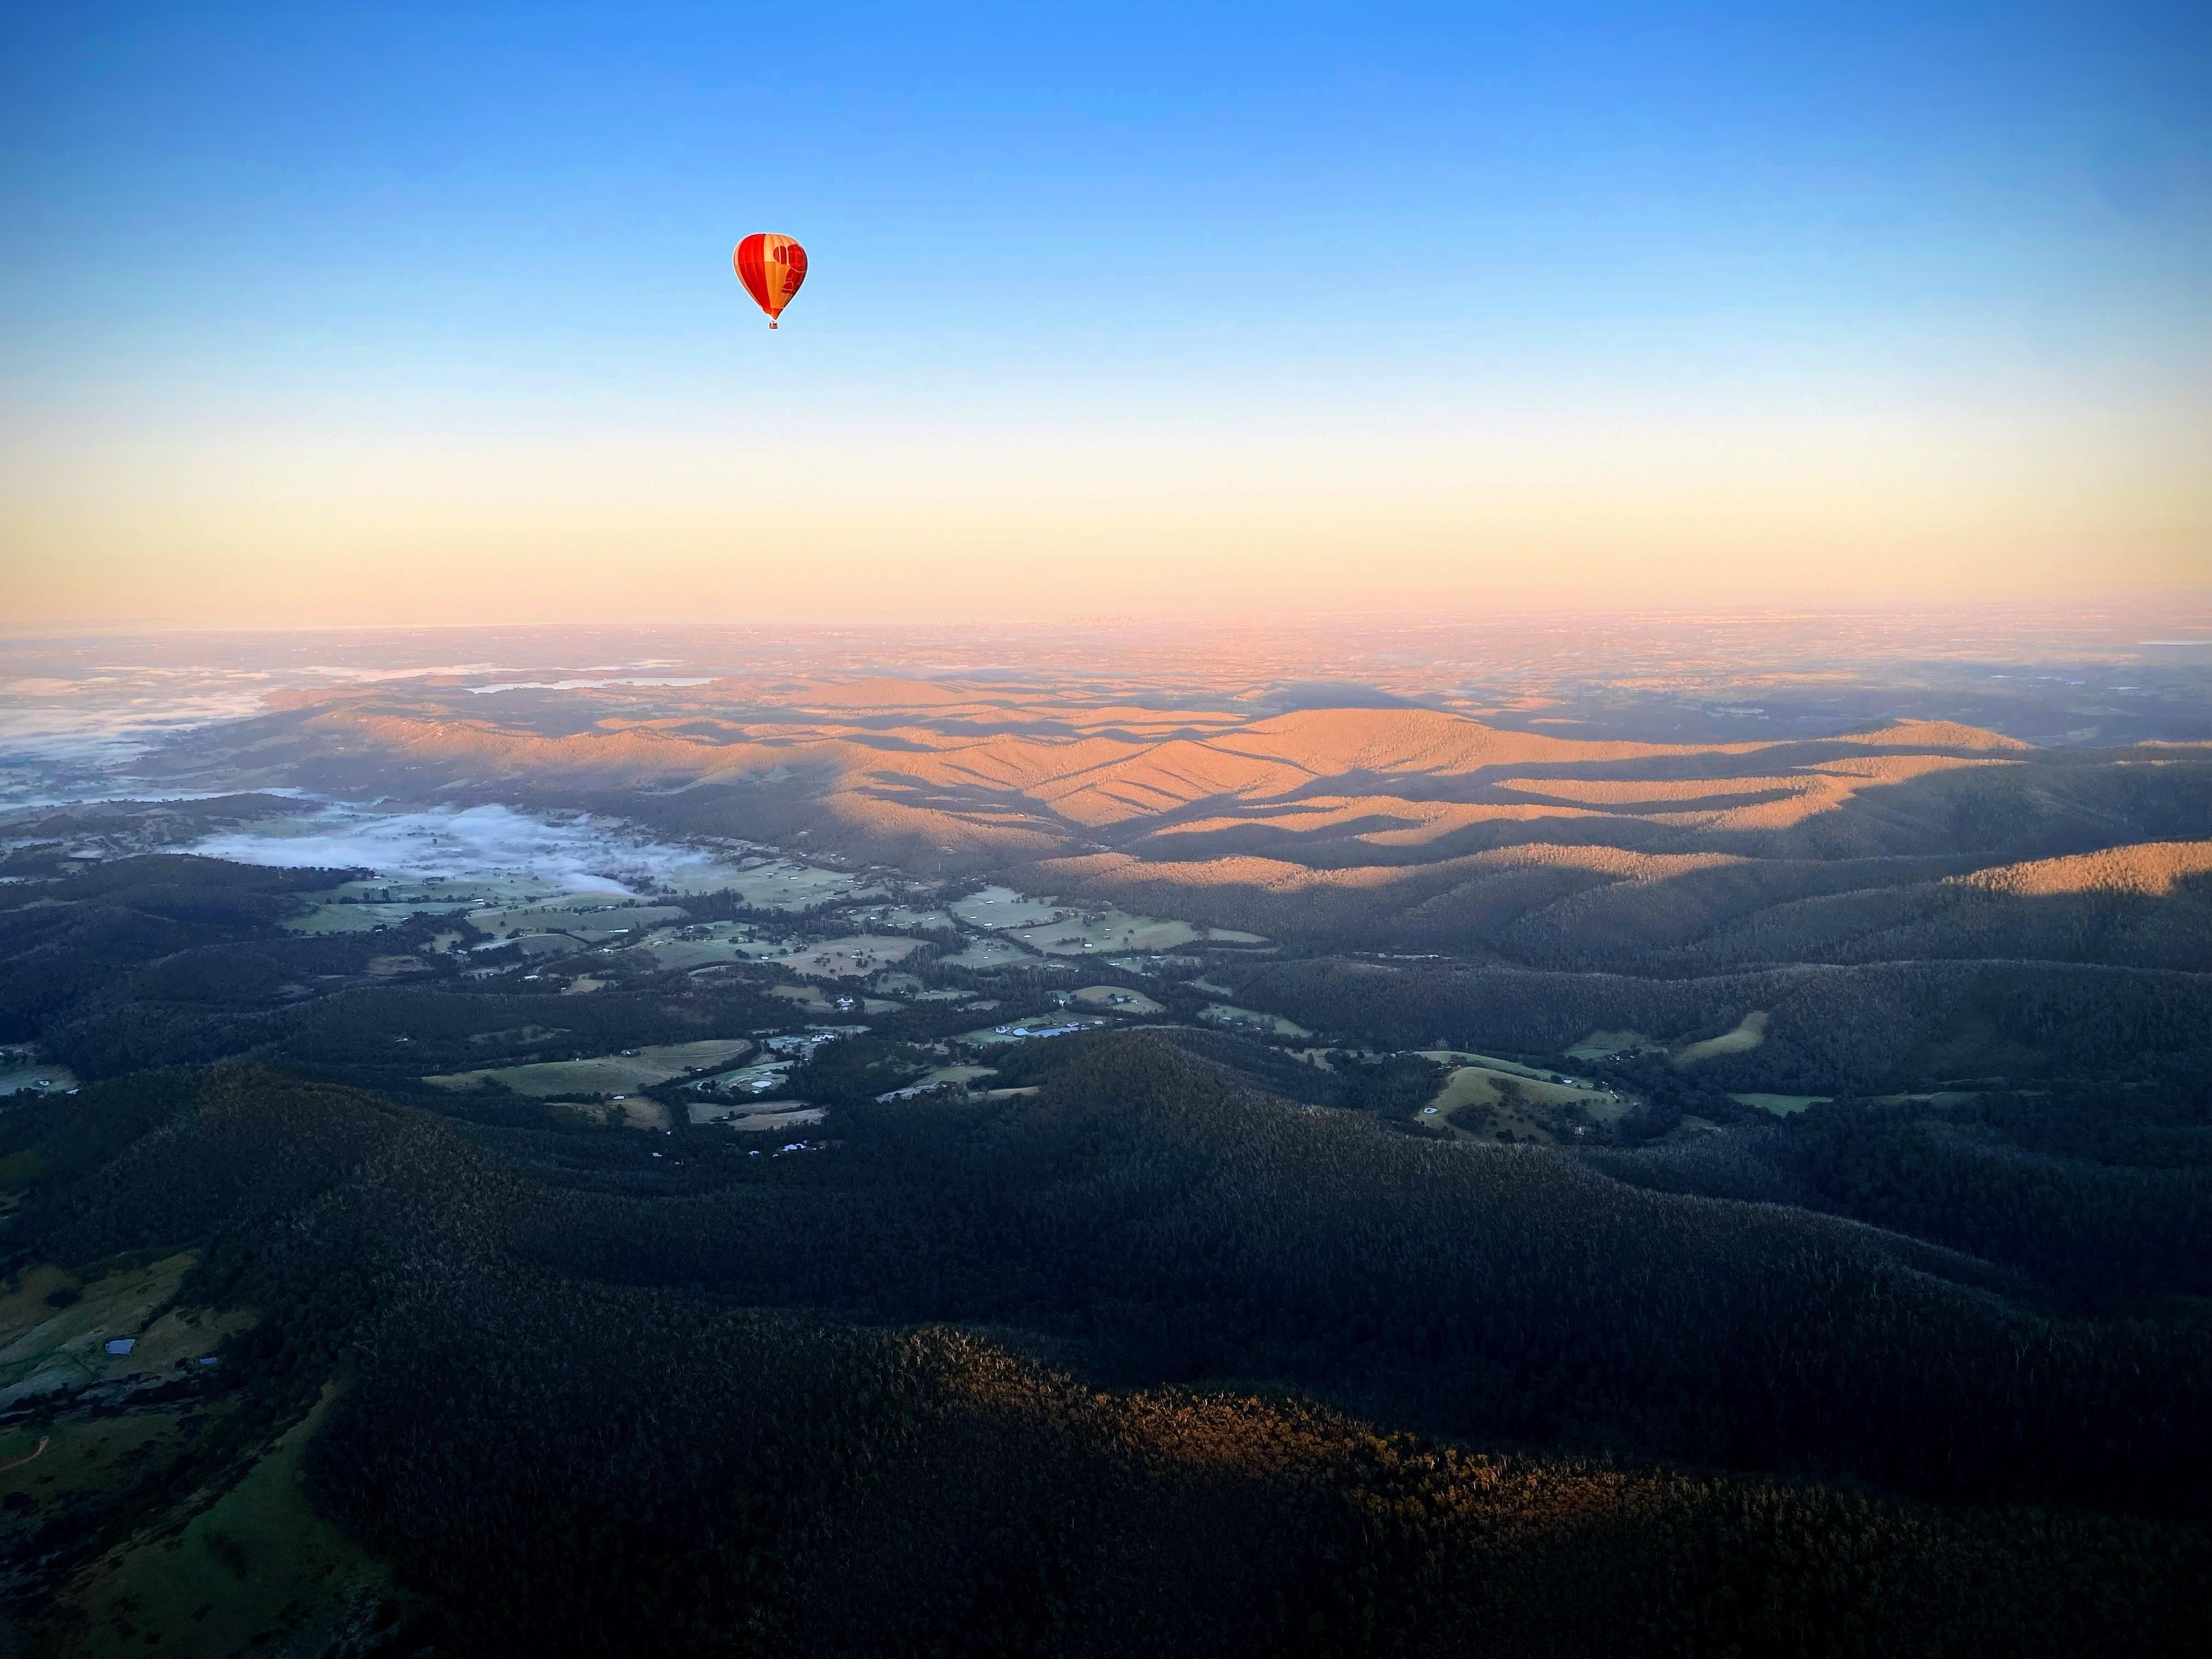hot air ballon: (733, 234, 806, 329)
